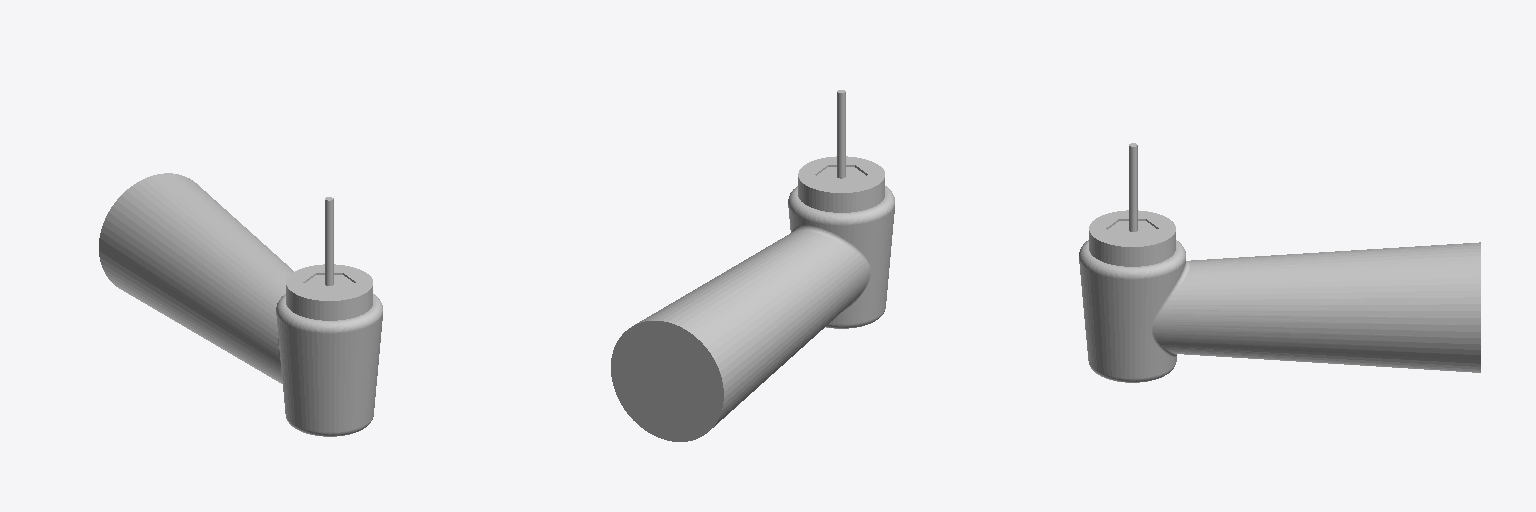
The model's file is Drill2.obj.
The picture shows the model from 3 angles: view 1: azimuth 30°, elevation 25°; view 2: azimuth 150°, elevation 25°; view 3: azimuth 270°, elevation 25°; orthographic projection.
Visible parts, largest first — view 1: Drill_Bolt2; view 2: Drill_Bolt2; view 3: Drill_Bolt2.
Boxes of the visible parts, x1=… form: Drill_Bolt2: x1=99, y1=173, x2=382, y2=436; Drill_Bolt2: x1=611, y1=90, x2=894, y2=441; Drill_Bolt2: x1=1079, y1=143, x2=1480, y2=382.
Bounding box in the file's own units: 0.0761 × 0.1427 × 0.2345.